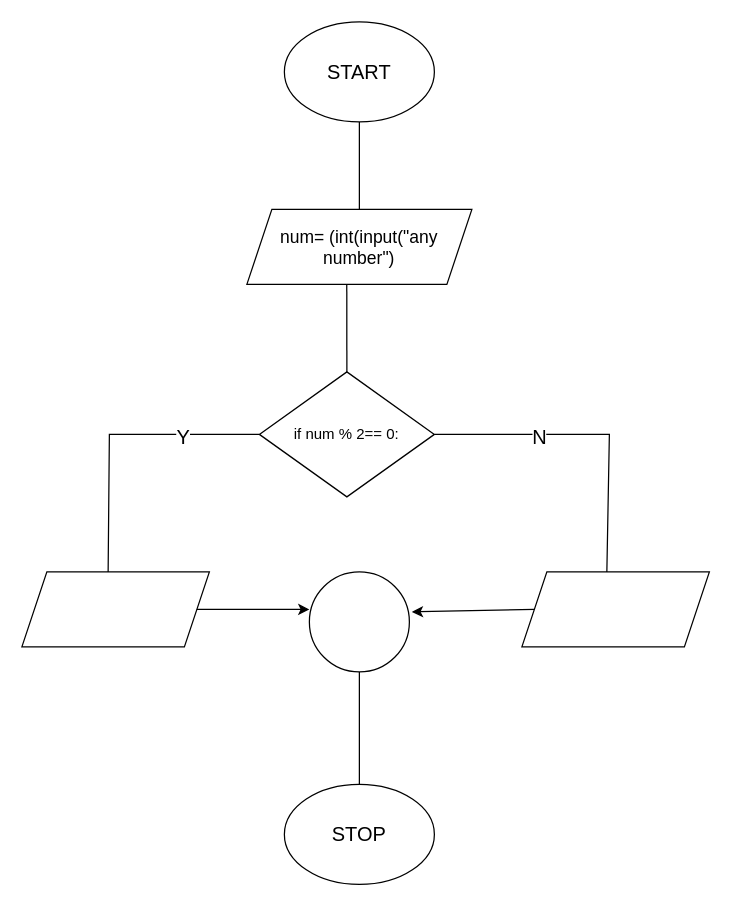
Image size: 731x906. Some labels were removed from this diagram. Here are the shapes that lost their labels. From the top down, the box of each, then its label:
(21, 571, 209, 647): print("even")
(521, 571, 709, 647): print("odd")
